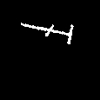double_crochet: (21, 23, 73, 43)
